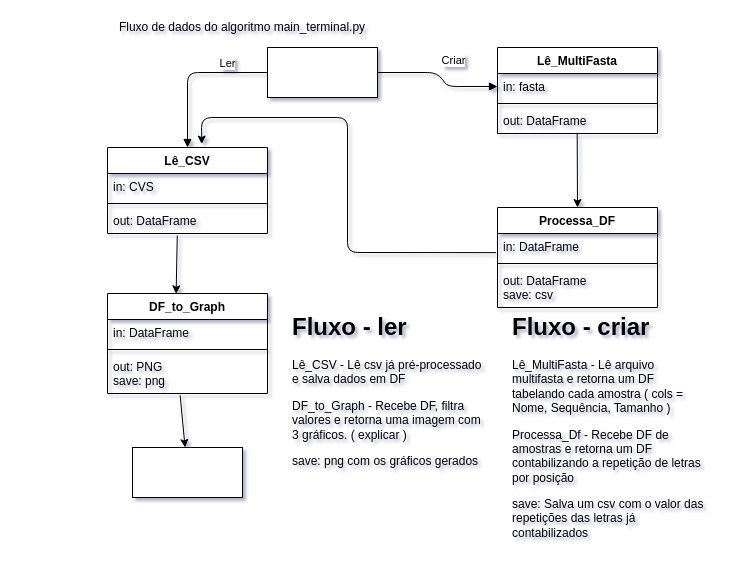
The diagram is 730 pixels wide and 580 high, and some of its shapes have lost their labels. Here are the shapes that lost their labels. From the top down, the centre of each, then its label:
pixel 322 72: Inicio
pixel 187 472: Gráfico
